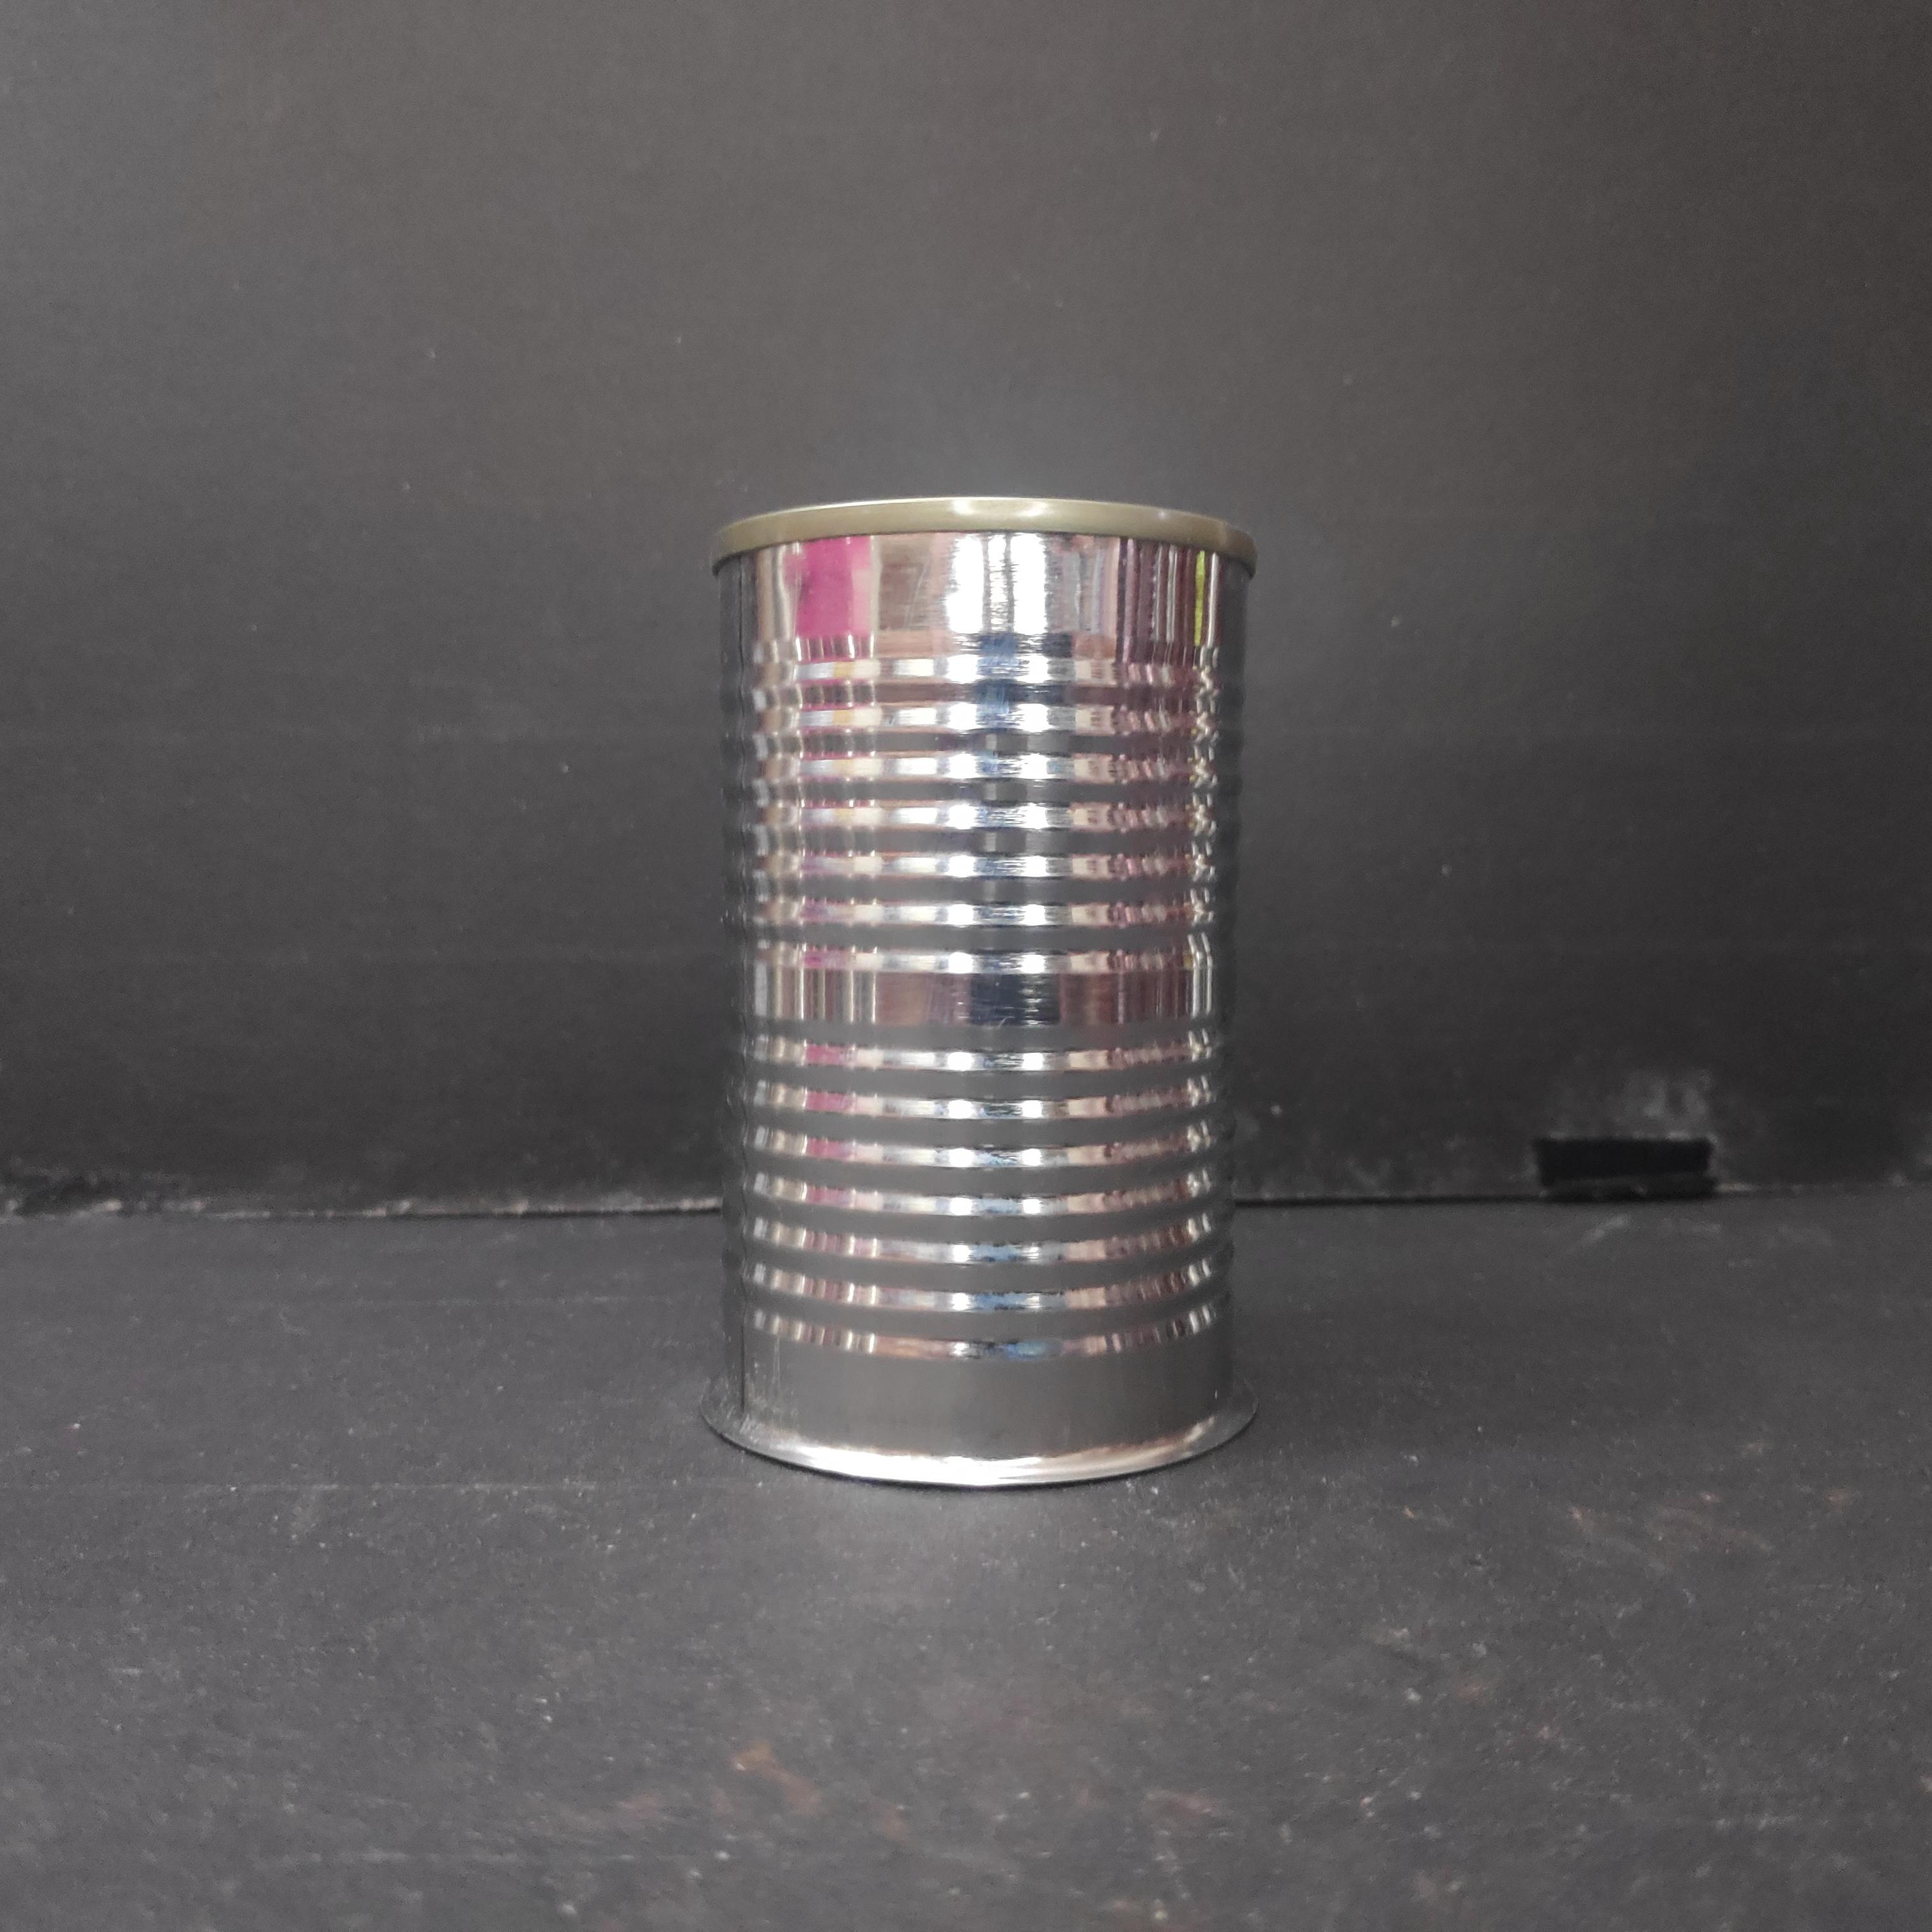No defect: (694, 487, 1272, 1499)
